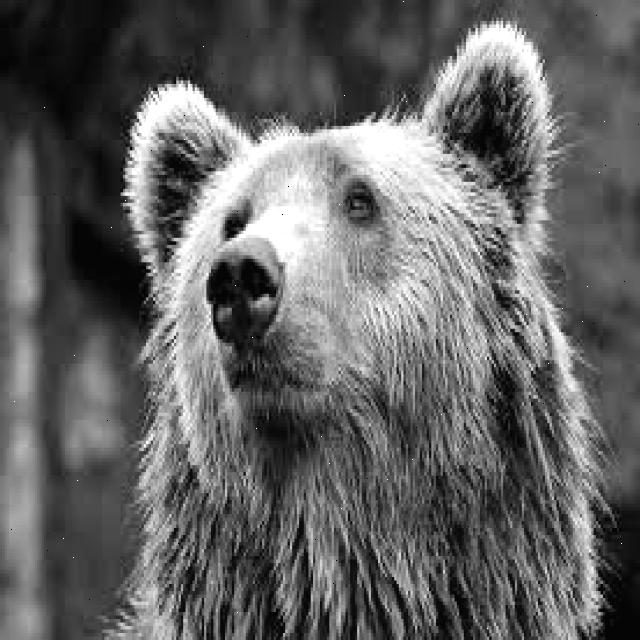bear: (71, 55, 538, 640)
